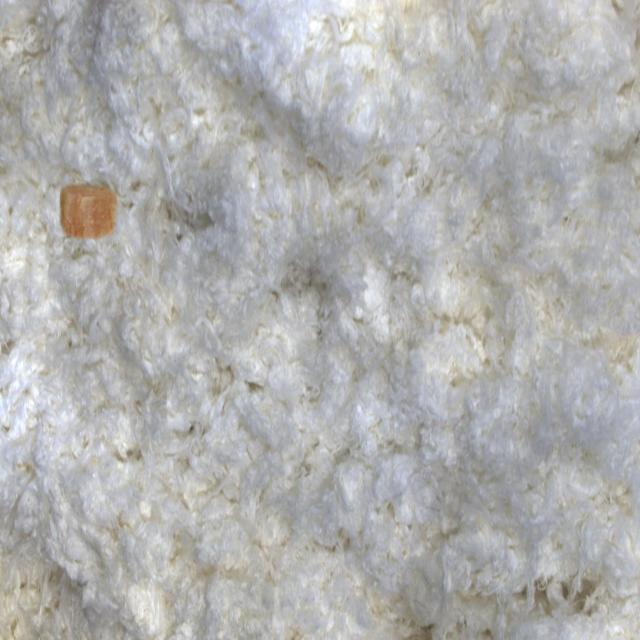dust: (16, 128, 154, 279)
